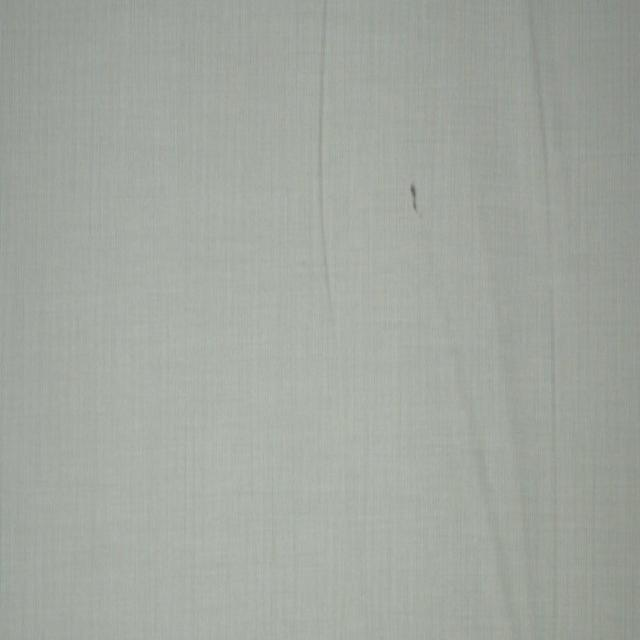dirty: (411, 186, 418, 209)
